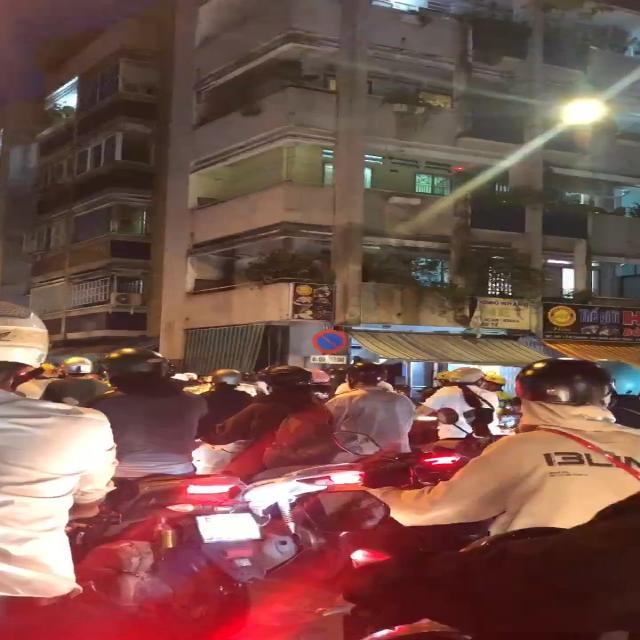Bien bao cam do xe: (310, 326, 354, 353)
